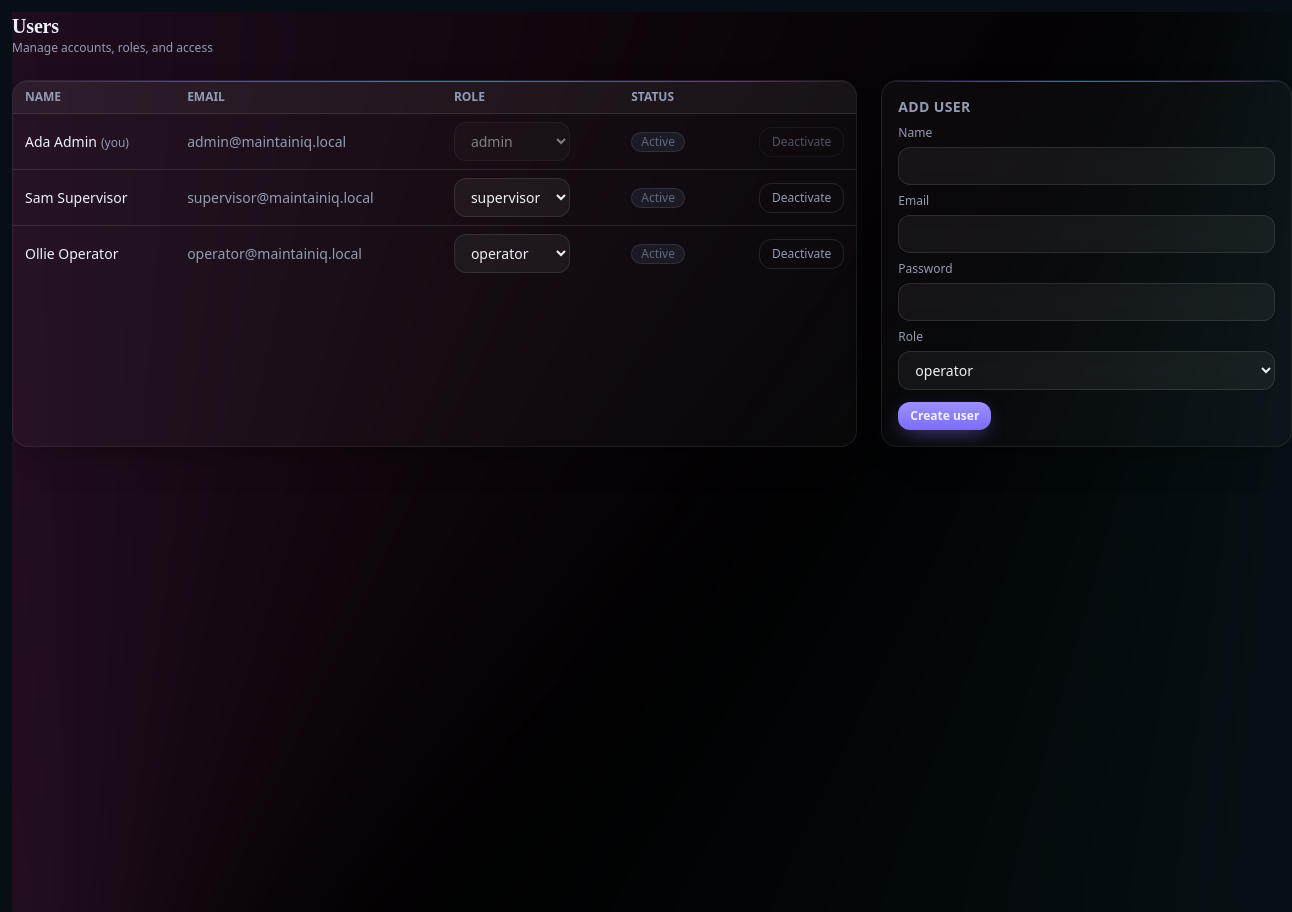
AdminUsersPage › shows an error when creating a user fails
Expected: the text "Sam Supervisor" is shown, x1=13 y1=170 x2=175 y2=226
In the field labelled "Name": coordinates (1087, 166) x1=898 y1=147 x2=1275 y2=185, type "Nora Newbie"
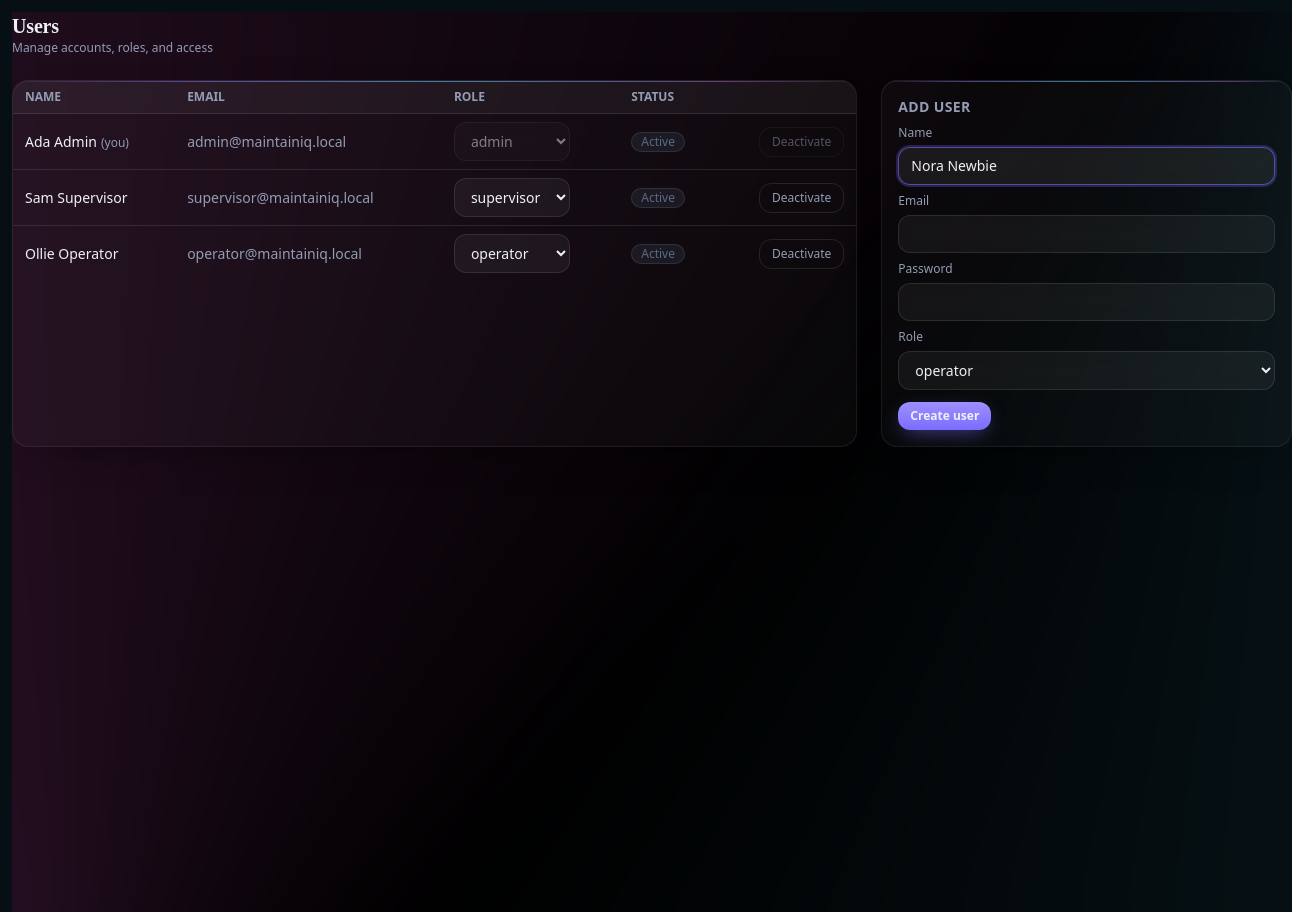
In the field labelled "Email": coordinates (1087, 234) x1=898 y1=215 x2=1275 y2=253, type "nora@maintainiq.local"
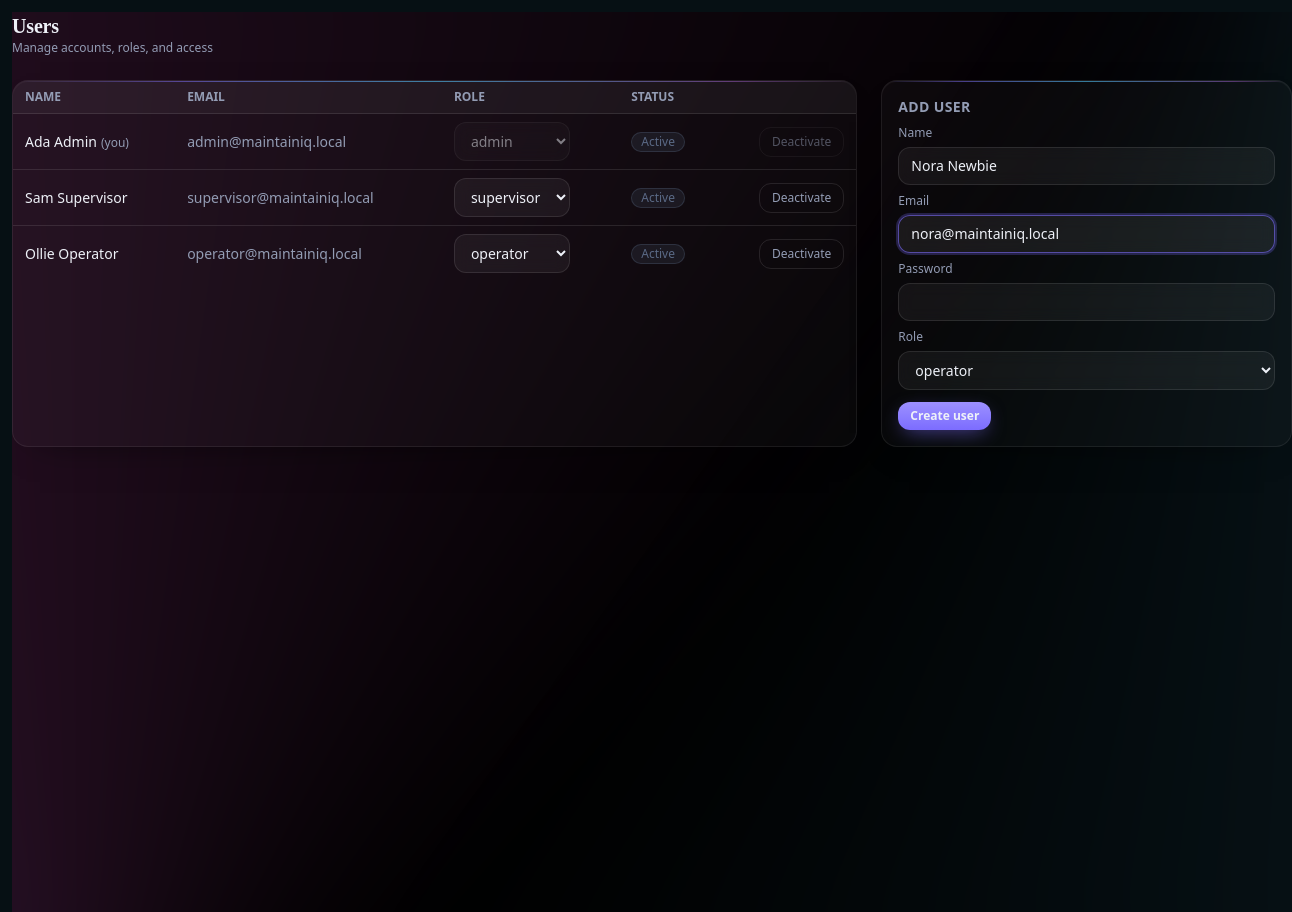
In the password field labelled "Password": coordinates (1087, 302) x1=898 y1=283 x2=1275 y2=321, type "hunter2"
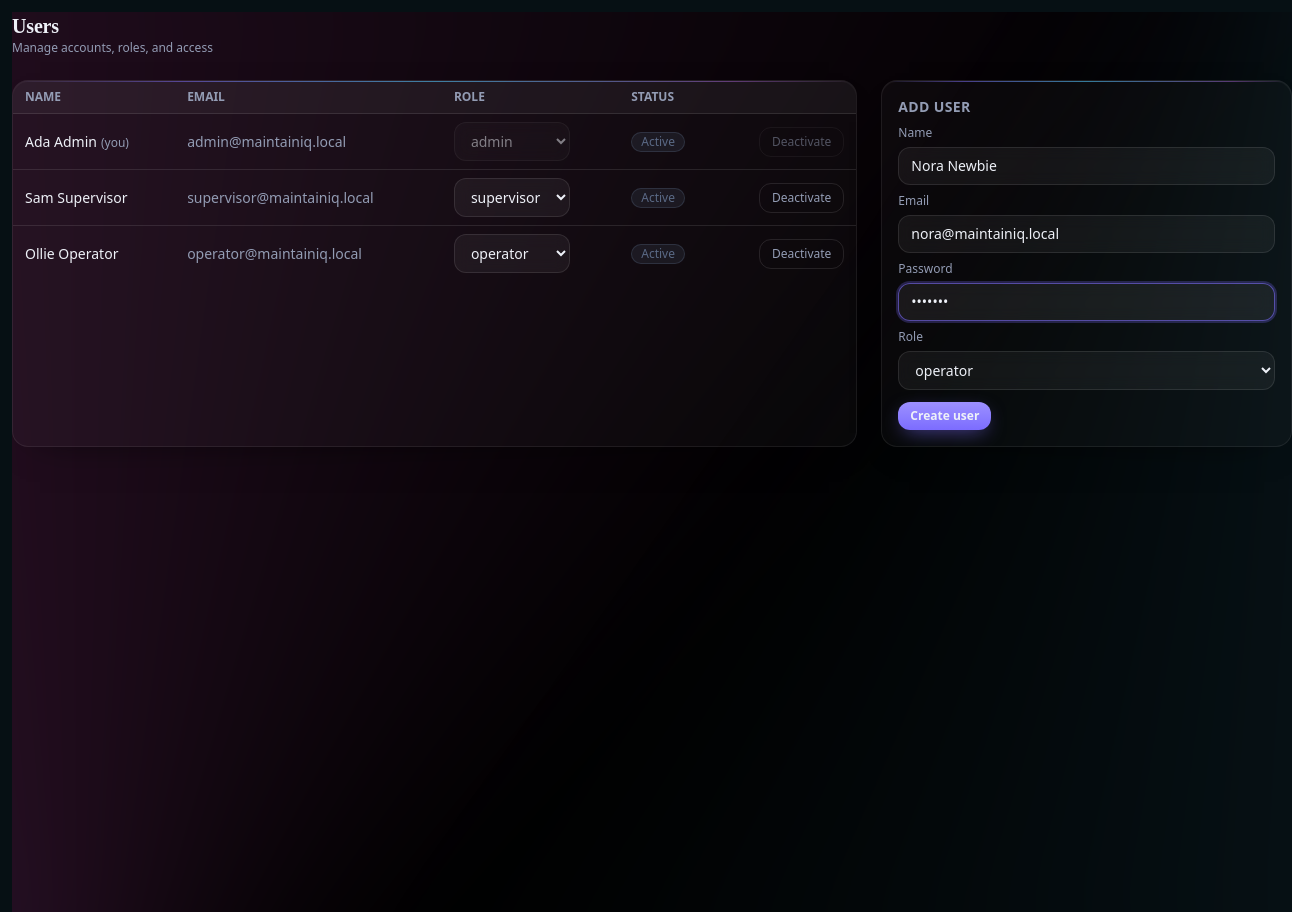
Click the button "Create user": coordinates (945, 416) x1=898 y1=402 x2=991 y2=430
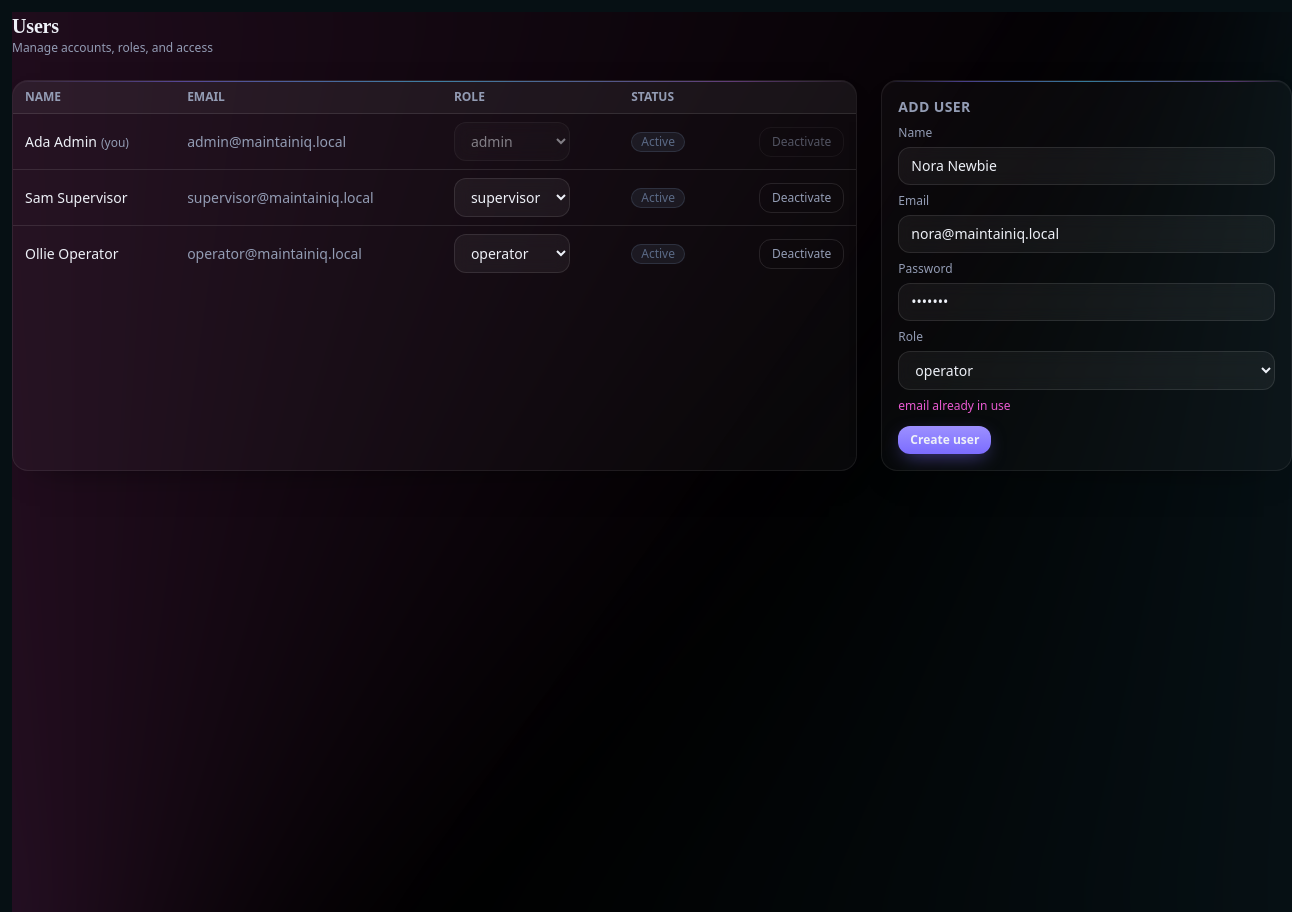
Expected: the text "email already in use" is shown, x1=898 y1=397 x2=1011 y2=414
